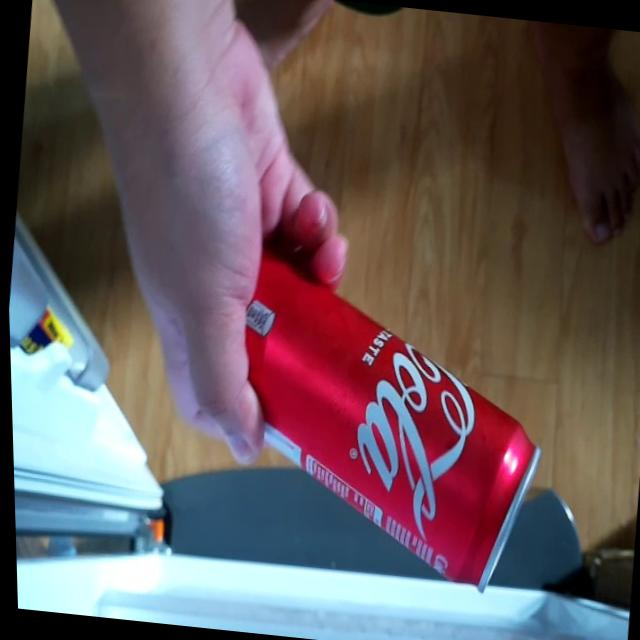coke: (201, 236, 568, 616)
